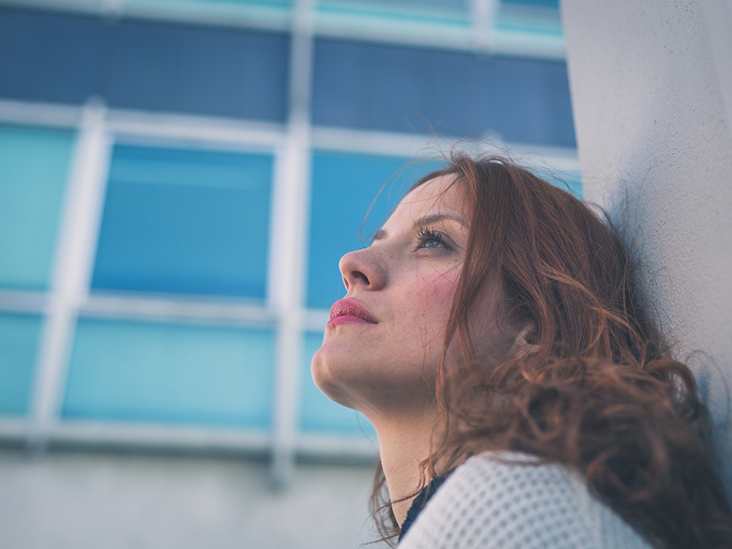bare: (306, 254, 454, 404)
